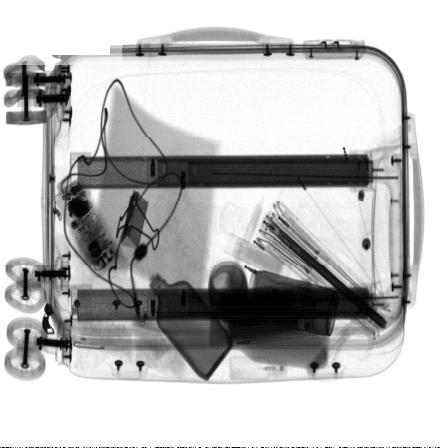Powerbank: (220, 279, 319, 346)
